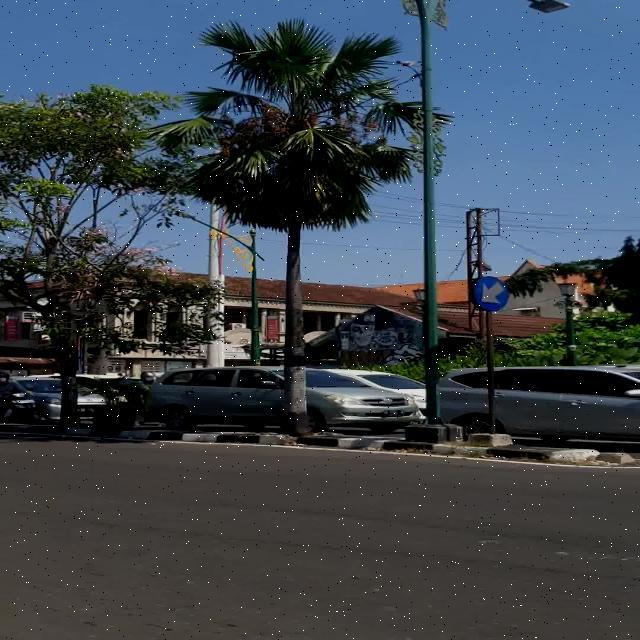Lajur Kiri: (473, 276, 508, 311)
